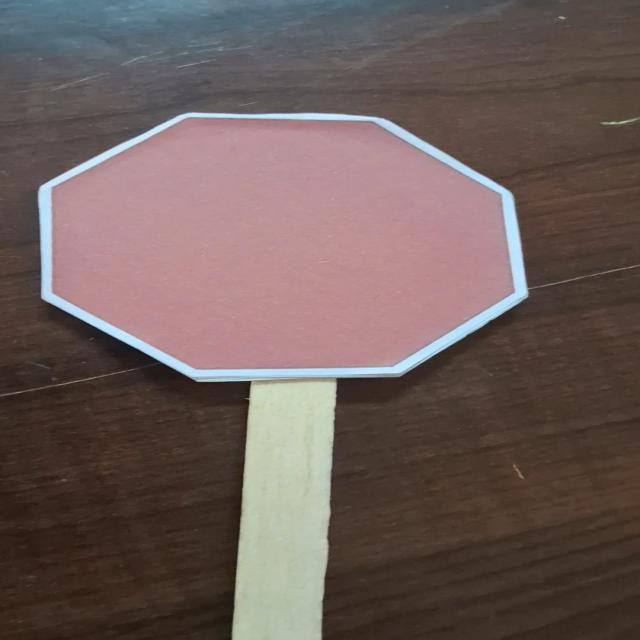Stop: (28, 99, 549, 377)
